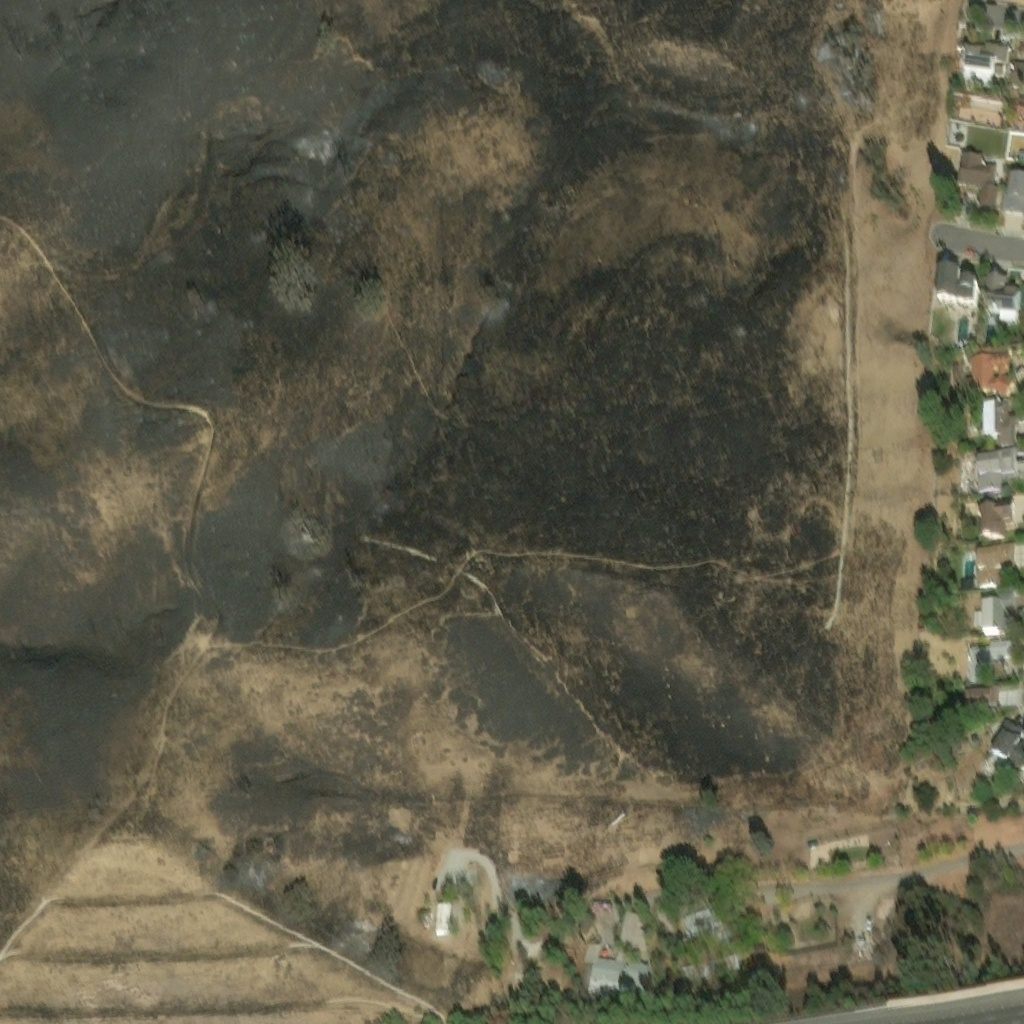0 no-damage: (667, 898, 742, 975), (582, 936, 649, 1002), (962, 46, 1012, 98), (960, 159, 1000, 213), (989, 716, 1023, 774), (971, 584, 1013, 629), (970, 352, 1012, 396), (983, 277, 1021, 325), (975, 443, 1016, 487), (982, 399, 1023, 443), (967, 634, 1009, 676), (973, 535, 1013, 579), (978, 492, 1014, 534), (938, 272, 979, 305), (1003, 178, 1023, 218), (962, 686, 991, 704), (433, 899, 450, 929), (1011, 67, 1023, 97)
